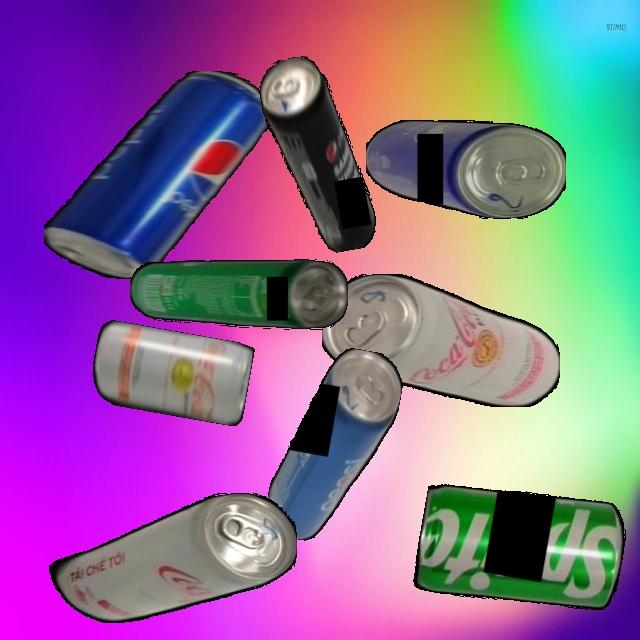debris: (43, 71, 272, 279), (37, 493, 297, 623), (411, 472, 631, 623), (322, 273, 560, 407), (262, 339, 407, 552), (255, 49, 380, 260), (365, 120, 566, 219), (87, 319, 255, 427), (129, 259, 348, 330)
